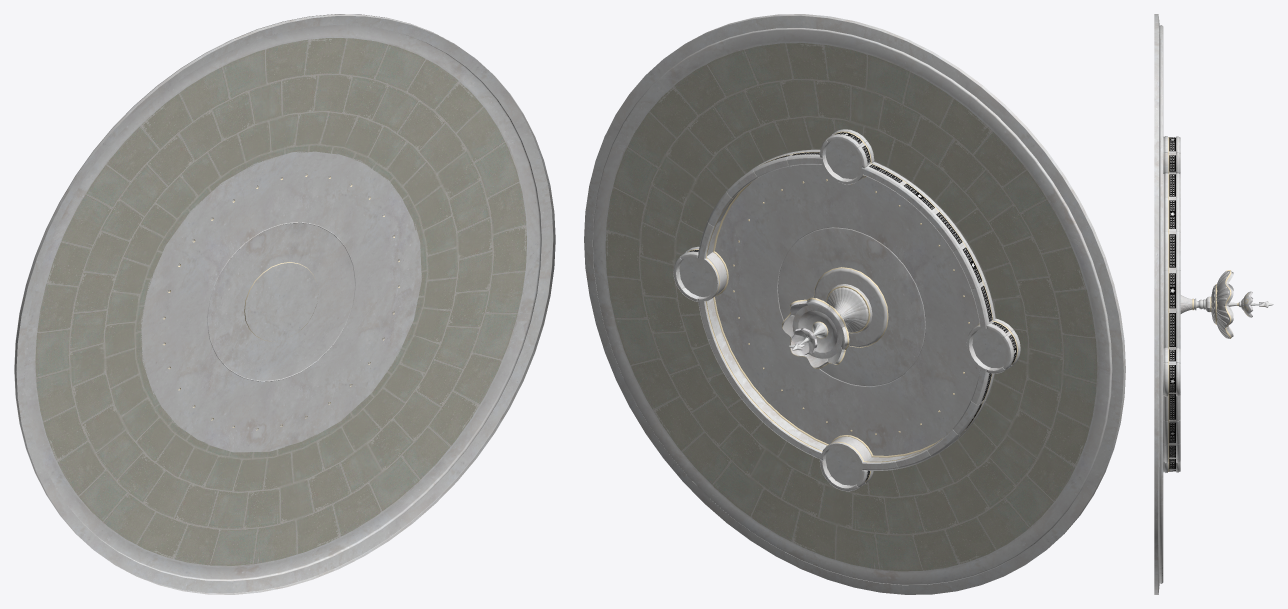
File: Fountain.obj
3 renders of one model, left to right at view 1: azimuth 30°, elevation 25°; view 2: azimuth 150°, elevation 25°; view 3: azimuth 270°, elevation 25°, orthographic. The views are drawn at different scales.
Parts seen in each view (by area): view 1: Fountain__TileGround00, Fountain__MarbleWhite00; view 2: Fountain__TileGround00, Fountain__MarbleWhite00, Fountain__GoldDeco01, Fountain__GoldDecoSeal01; view 3: Fountain__MarbleWhite00, Fountain__GoldDecoSeal01, Fountain__GoldDeco01.
Part boxes in pixels (left/top/right/bottom): Fountain__TileGround00: left=35, top=38, right=526, bottom=565; Fountain__MarbleWhite00: left=14, top=14, right=555, bottom=594; Fountain__TileGround00: left=605, top=43, right=1097, bottom=571; Fountain__MarbleWhite00: left=584, top=14, right=1125, bottom=594; Fountain__GoldDeco01: left=687, top=131, right=1017, bottom=482; Fountain__GoldDecoSeal01: left=689, top=132, right=1016, bottom=480; Fountain__MarbleWhite00: left=1154, top=14, right=1273, bottom=594; Fountain__GoldDecoSeal01: left=1169, top=137, right=1175, bottom=471; Fountain__GoldDeco01: left=1168, top=137, right=1238, bottom=471.
Size of the model in its own units: 4751 by 4751 by 973.
Materials: 6 (5 with a texture image).
